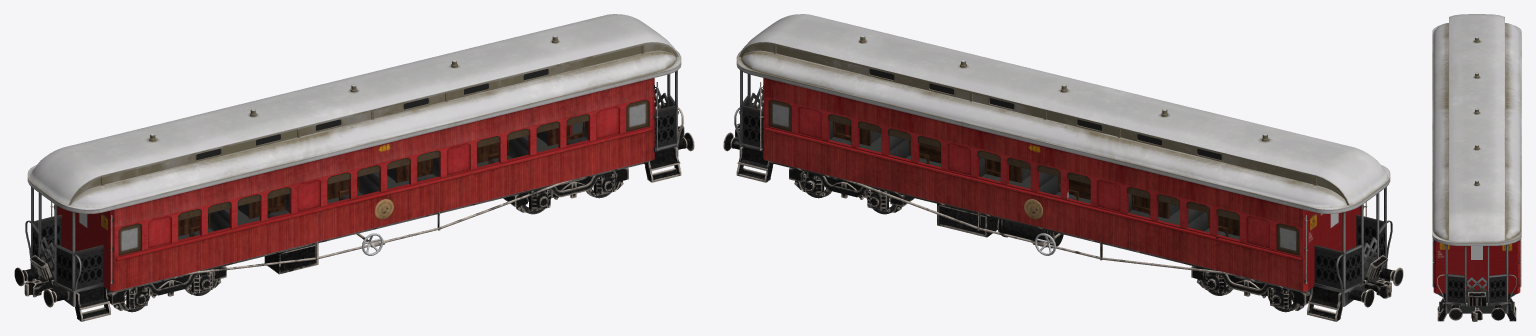
The picture shows the model from 3 angles, left to right: view 1: azimuth 30°, elevation 25°; view 2: azimuth 150°, elevation 25°; view 3: azimuth 270°, elevation 25°; orthographic projection. The views are drawn at different scales.
Visible parts, largest first — view 1: Object_10_04_1, Object_24_04_1, Object_16_04_1, Object_4_04_1, Object_14_04_1; view 2: Object_10_04_1, Object_24_04_1, Object_4_04_1, Object_16_04_1, Object_14_04_1; view 3: Object_10_04_1, Object_24_04_1, Object_27_Window.
Part boxes in pixels (box(x1,y1,x2,y2)): Object_10_04_1: box(14, 14, 694, 321); Object_24_04_1: box(32, 99, 675, 289); Object_16_04_1: box(503, 168, 628, 212); Object_4_04_1: box(107, 266, 226, 310); Object_14_04_1: box(196, 69, 548, 159); Object_10_04_1: box(723, 14, 1403, 321); Object_24_04_1: box(742, 99, 1385, 289); Object_4_04_1: box(1191, 266, 1310, 310); Object_16_04_1: box(789, 168, 914, 212); Object_14_04_1: box(869, 69, 1221, 159); Object_10_04_1: box(1432, 14, 1521, 321); Object_24_04_1: box(1447, 276, 1506, 303); Object_27_Window: box(1471, 246, 1482, 259).
Bounding box in the file's own units: 58.46 × 13.61 × 9.47.
